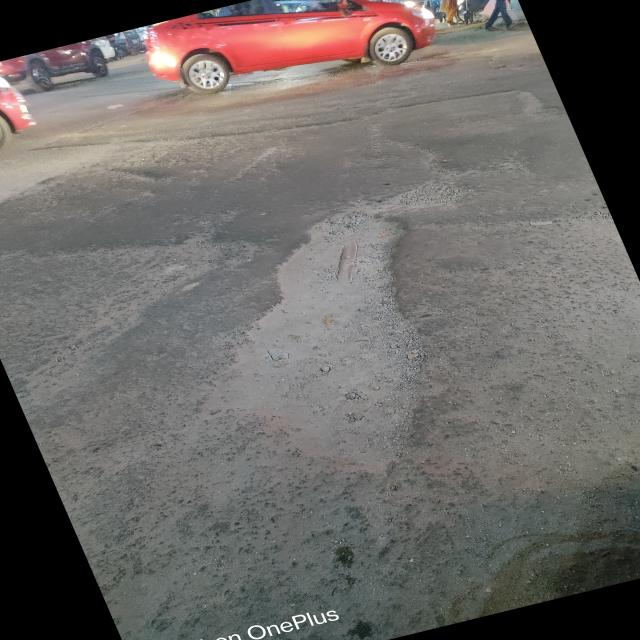potholes: (282, 190, 439, 445)
